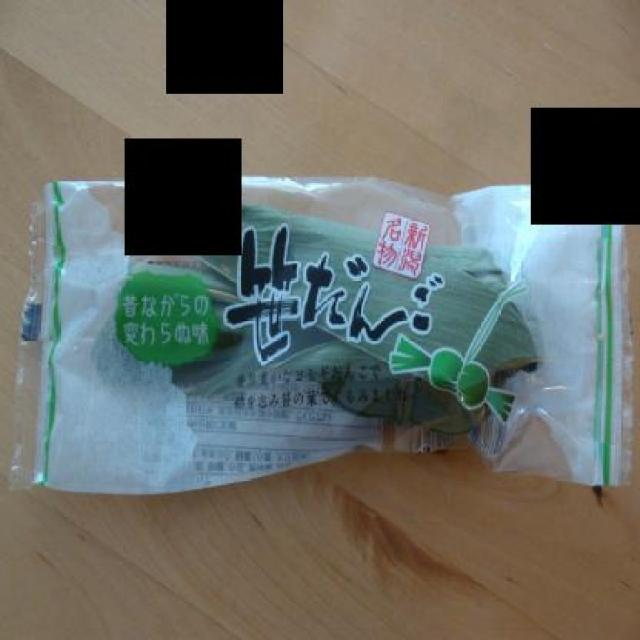plastic bag: (12, 171, 632, 497)
